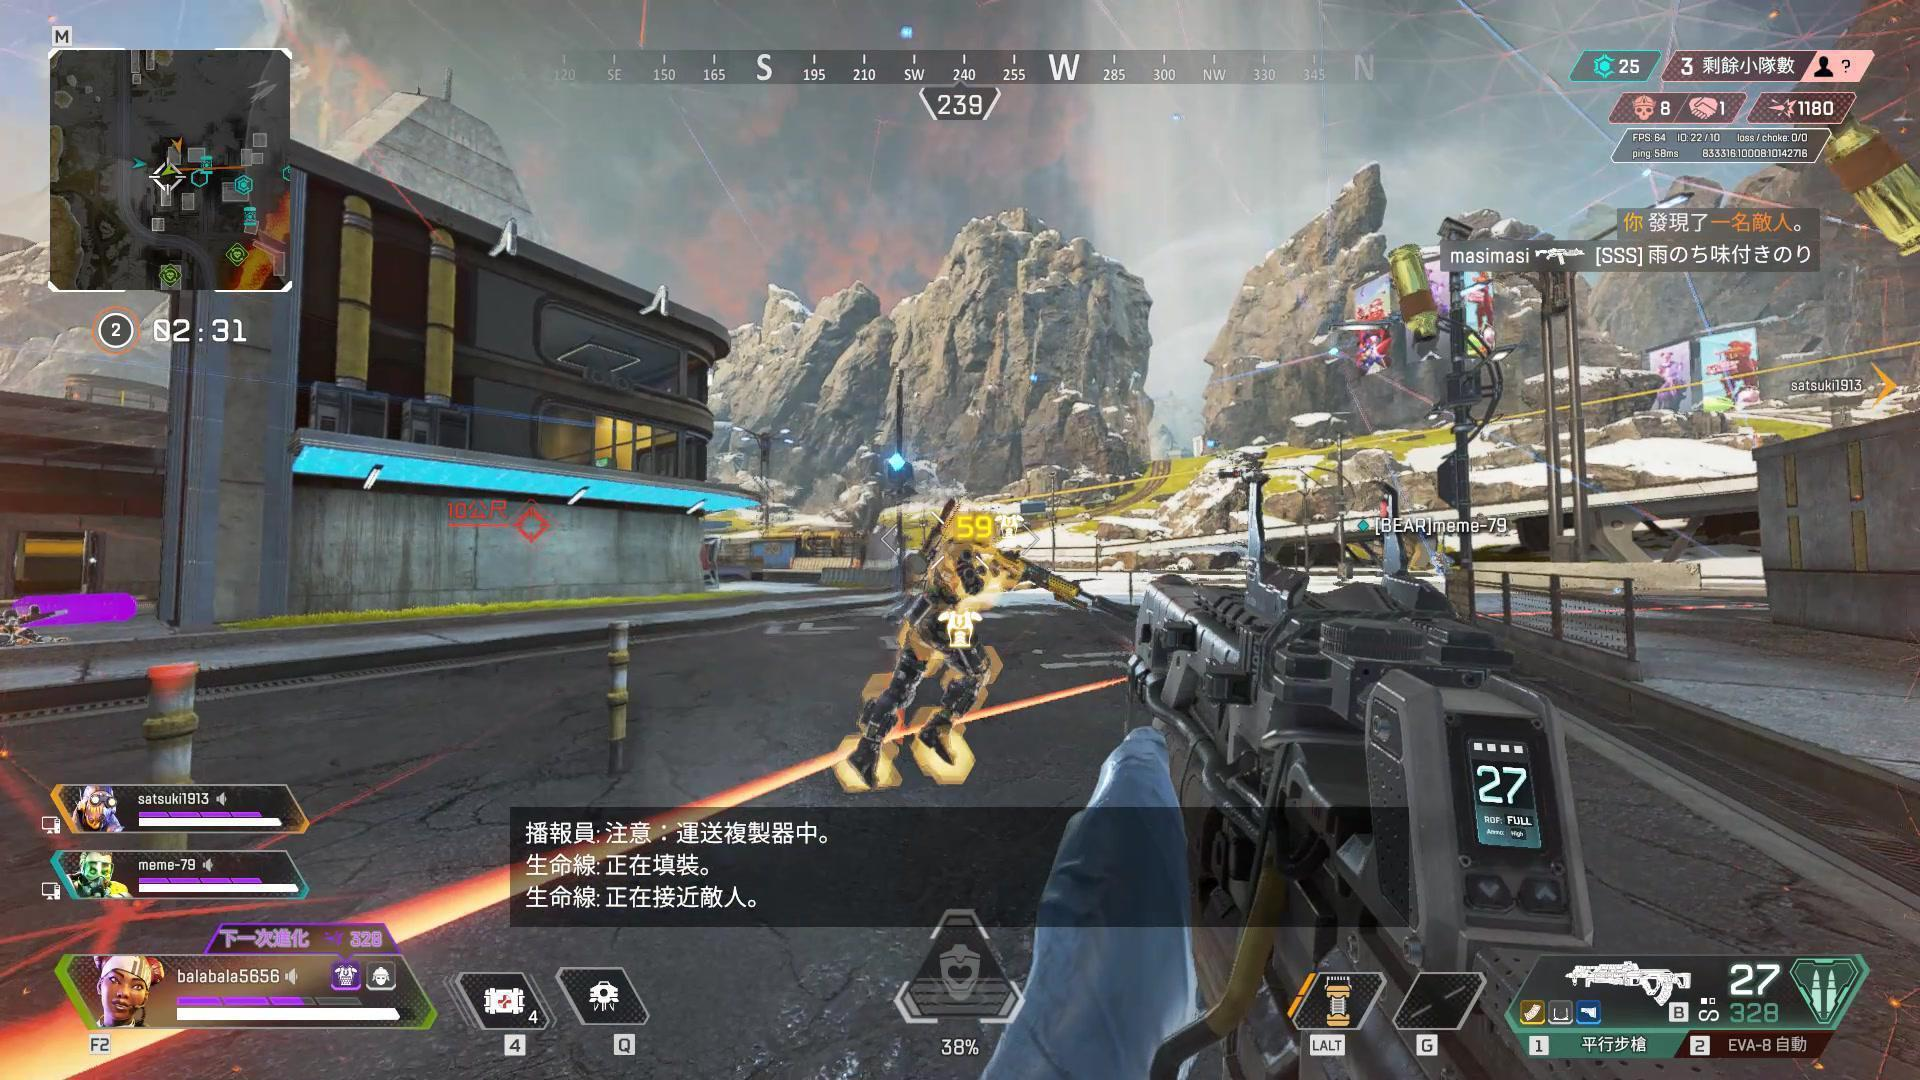avatar: (829, 506, 1021, 795)
